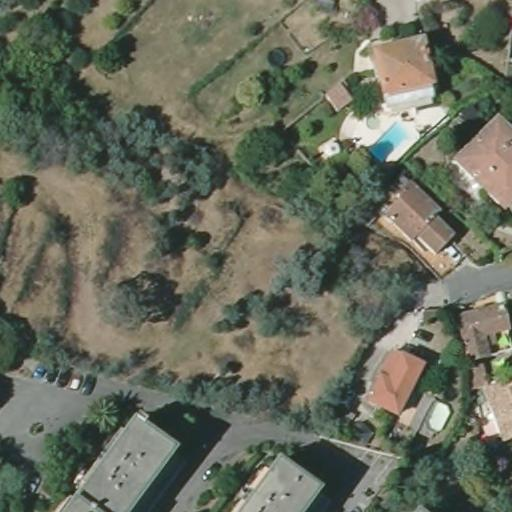pool: (366, 120, 409, 165)
